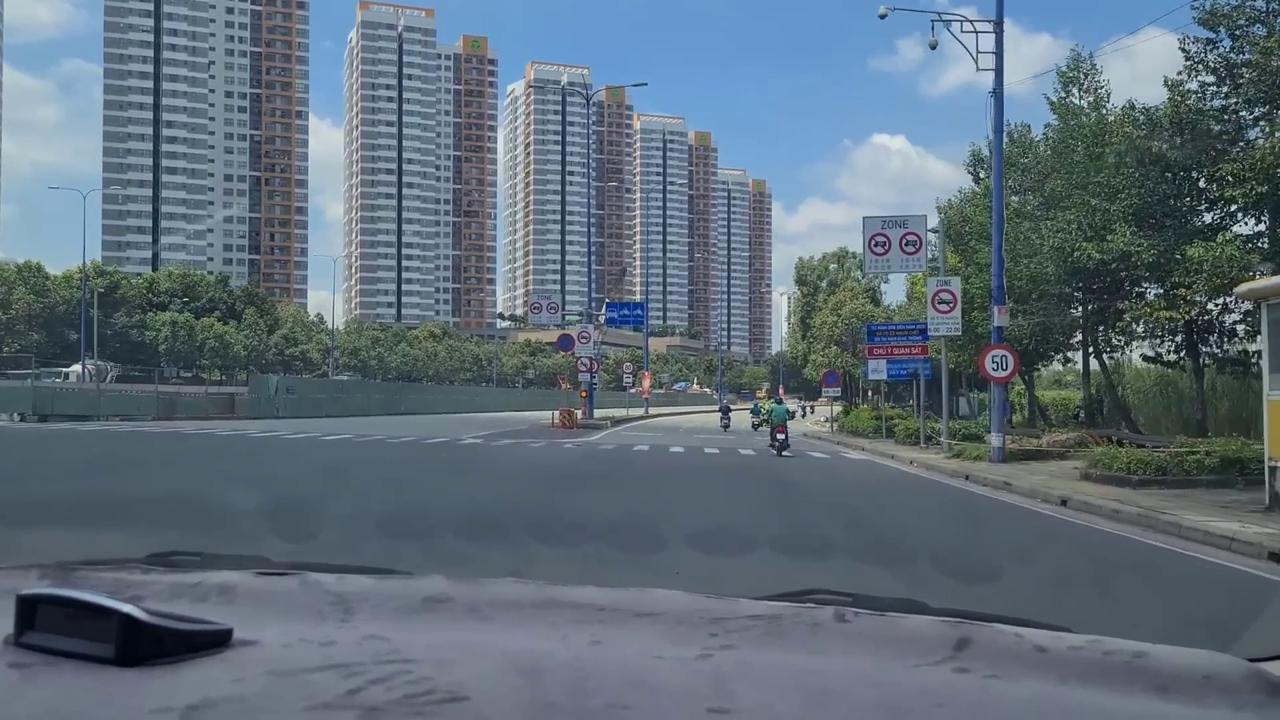Biển phụ: (622, 373, 633, 388)
Cấm cac phương tiện hoạt động trong khung giờ cố định: (860, 214, 932, 275), (924, 275, 962, 337), (526, 292, 564, 325), (575, 323, 595, 357)
Cấm dừng - Cấm đỗ: (820, 368, 840, 389), (556, 332, 576, 353)
Cấm xe máy: (575, 356, 593, 372)
Giới hạn tốc độ 50Km/h: (978, 343, 1019, 384)
Giới hạn tốc độ 80Km/h: (622, 361, 634, 374)
Khác: (862, 320, 932, 380)
Làn đường cho từng xe: (604, 300, 645, 328)
